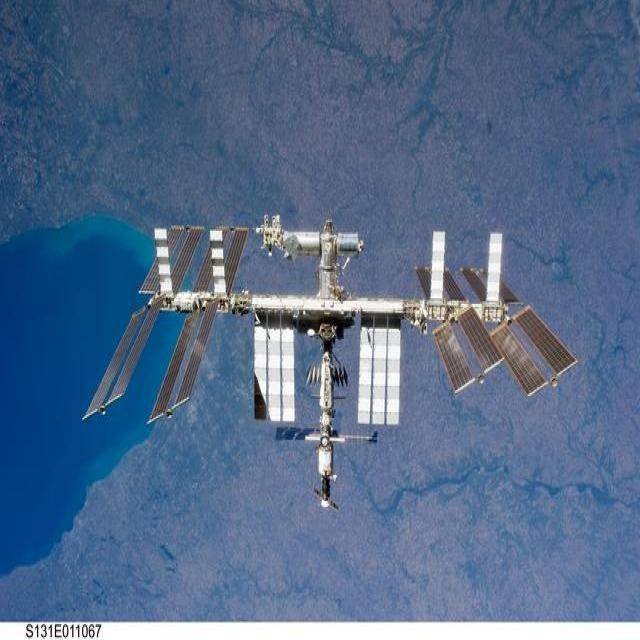medium_debris: (89, 216, 576, 508)
